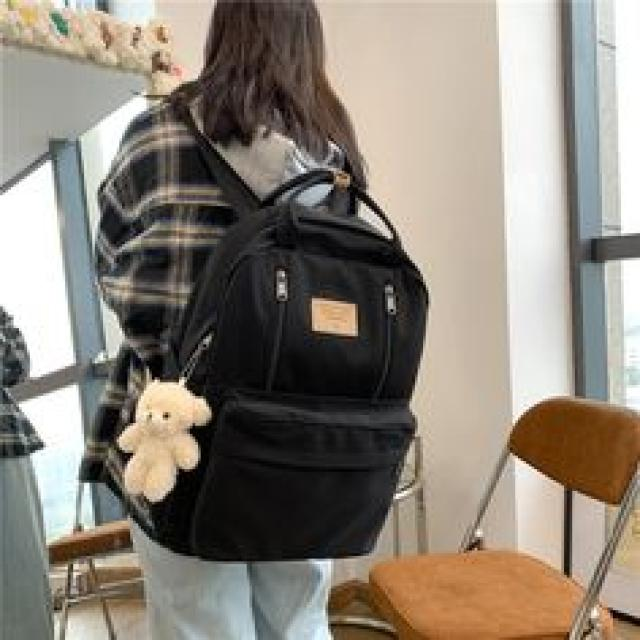Handbag: (141, 195, 446, 570)
